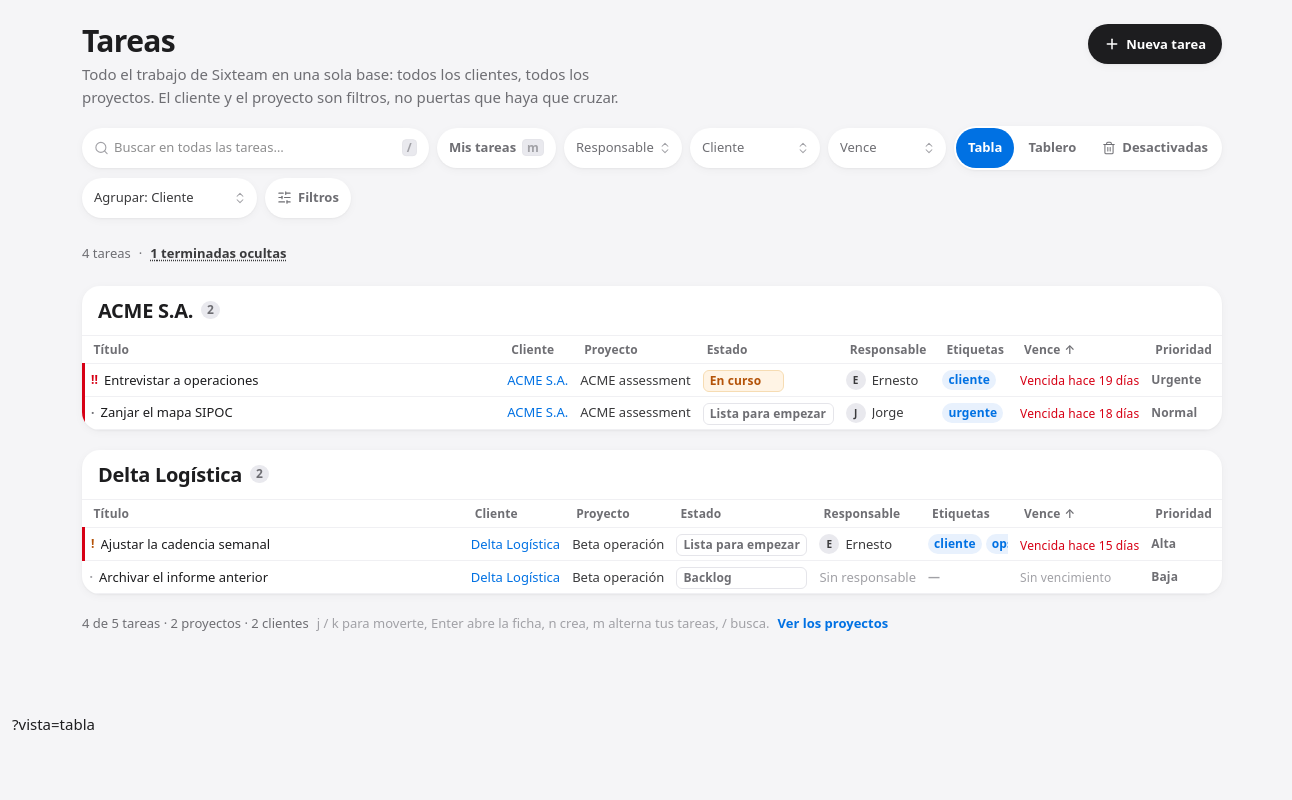
Test: TareasView (render) › una tarea DONE no ofrece cambios de estado (I4)
The width and height of the screenshot is (1292, 800).
Expected: the row with test id "tarea-fila-t-acme-hoy" is shown, [84, 396, 1222, 429]
Los cerrados sólo aparecen si se piden: filtrar por "Terminada" (I3) los trae.
Click the button with test id "tareas-filtros-toggle": (308, 198) [265, 178, 351, 218]
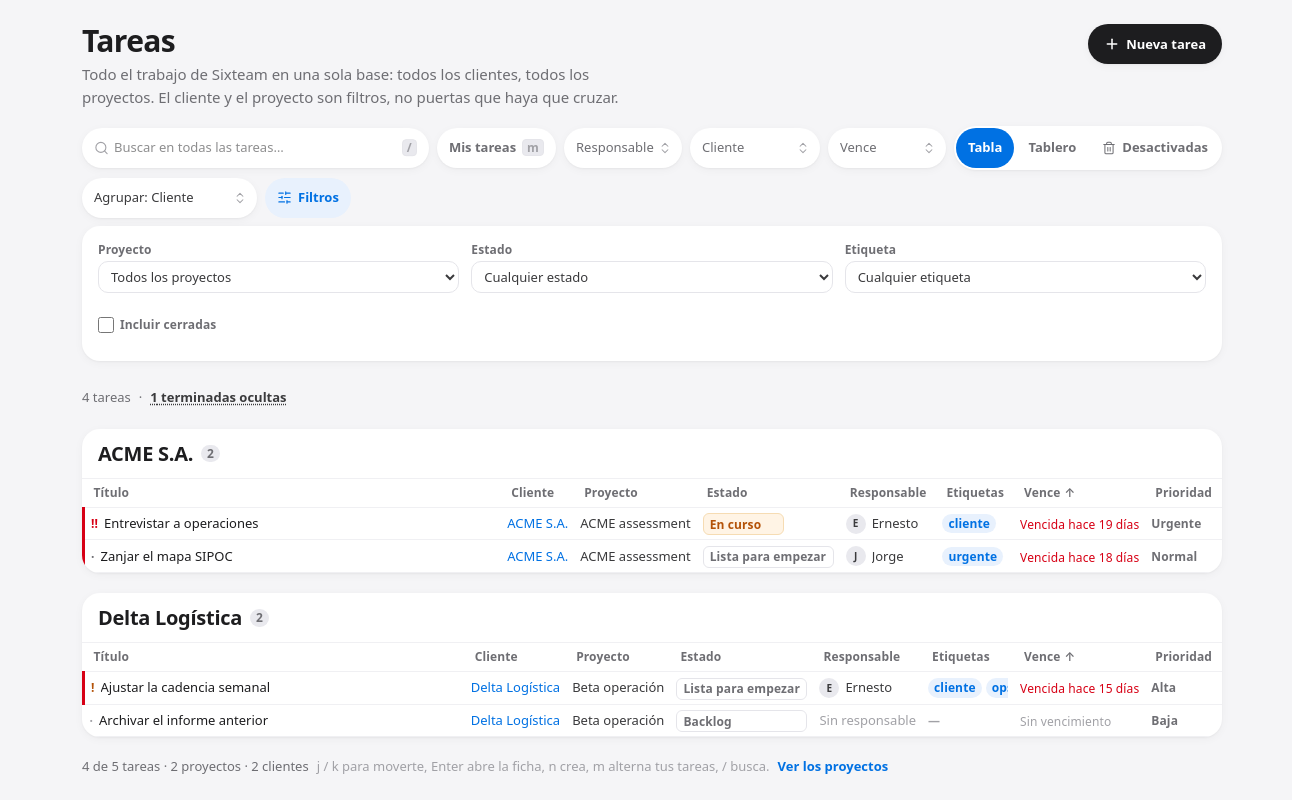
Select "Terminada" in the dropdown with test id "tareas-filtro-estado": (652, 277) [471, 261, 833, 293]
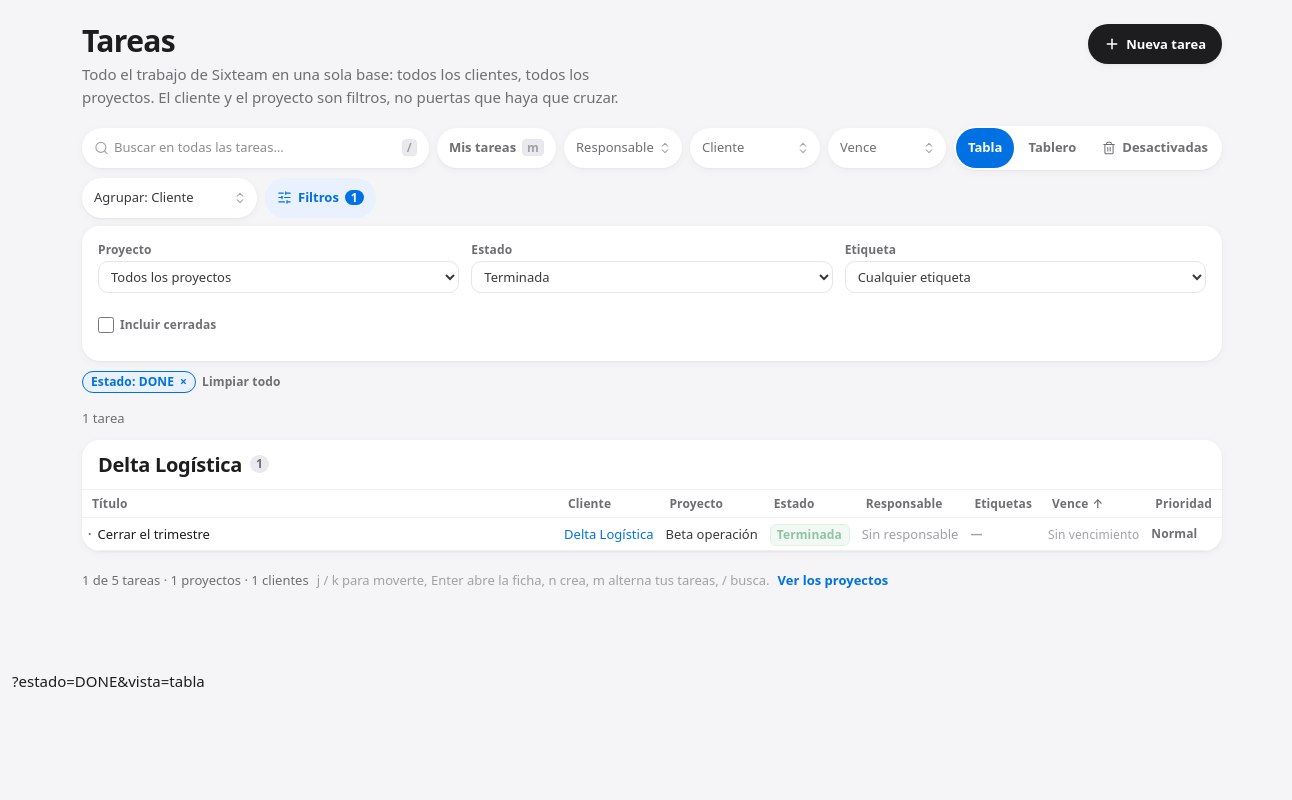
Result: the dropdown with test id "tarea-estado-t-beta-cerrada" is disabled at [770, 524, 850, 546]
